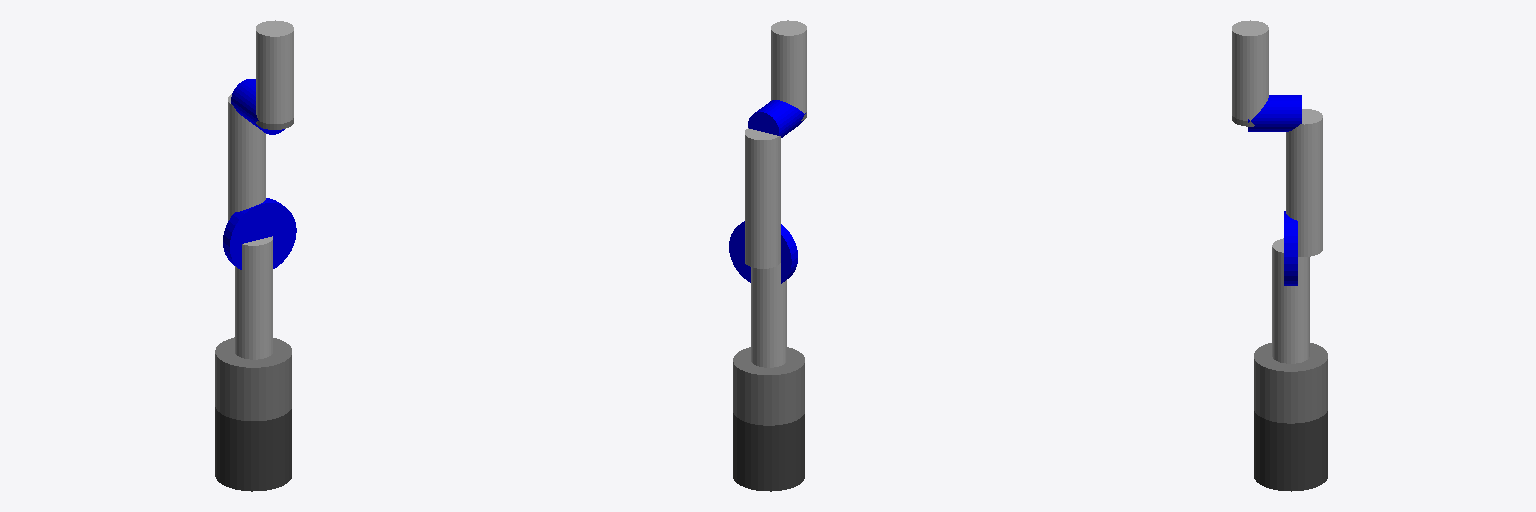
URDF robot description (prototype3):
<robot name="prototype3">
    <material name="Blue">
        <texture />
        <color rgba="0 0 1 1" />
    </material>
    <material name="DarkGrey">
        <texture />
        <color rgba="0.3 0.3 0.3 1" />
    </material>
    <material name="Grey">
        <texture />
        <color rgba="0.5 0.5 0.5 1" />
    </material>
    <material name="LightGrey">
        <texture />
        <color rgba="0.7 0.7 0.7 1" />
    </material>
    <link name="base">
        <visual>
            <origin xyz="0 0 0.1" rpy="0 -0 0" />
            <geometry>
                <cylinder radius="0.1" length="0.2" />
            </geometry>
            <material name="DarkGrey">
                <texture />
                <color rgba="0.3 0.3 0.3 1" />
            </material>
        </visual>
    </link>
    <link name="flange">
        <inertial>
            <mass value="2" />
            <origin xyz="0 0 0" rpy="0 -0 0" />
            <inertia ixx="0" ixy="0" ixz="0" iyy="0" iyz="0" izz="0" />
        </inertial>
        <visual>
            <origin xyz="0 0 -0.0082" rpy="0 -0 0" />
            <geometry>
                <cylinder radius="0.05" length="0.0164" />
            </geometry>
            <material name="Grey">
                <texture />
                <color rgba="0.5 0.5 0.5 1" />
            </material>
        </visual>
    </link>
    <link name="link1">
        <inertial>
            <mass value="3.48196e-19" />
            <origin xyz="0 0 0" rpy="0 -0 0" />
            <inertia ixx="9.80625e-20" ixy="-3.2626e-20" ixz="3.97941e-19" iyy="1.87573e-20" iyz="1.5402e-21" izz="0.0621393" />
        </inertial>
        <visual>
            <origin xyz="0 0 0.27645" rpy="0 -0 0" />
            <geometry>
                <cylinder radius="0.1" length="0.1529" />
            </geometry>
            <material name="Grey">
                <texture />
                <color rgba="0.5 0.5 0.5 1" />
            </material>
        </visual>
    </link>
    <link name="link2">
        <inertial>
            <mass value="1.02864e-19" />
            <origin xyz="0 0 0" rpy="0 -0 0" />
            <inertia ixx="-0.162878" ixy="0.858004" ixz="0.715327" iyy="0.225017" iyz="1.98011" izz="-3.11143" />
        </inertial>
        <visual>
            <origin xyz="0 0.1625 0" rpy="1.5708 -0 0" />
            <geometry>
                <cylinder radius="0.05" length="0.325" />
            </geometry>
            <material name="LightGrey">
                <texture />
                <color rgba="0.7 0.7 0.7 1" />
            </material>
        </visual>
    </link>
    <link name="link3">
        <inertial>
            <mass value="-0.759816" />
            <origin xyz="3.08257 -0.204516 -3.14476e-15" rpy="0 -0 0" />
            <inertia ixx="1.09967" ixy="0.342904" ixz="-1.34792" iyy="-1.03753" iyz="-1.83535" izz="-0.658424" />
        </inertial>
        <visual>
            <origin xyz="0 -0.0178 0" rpy="0 -0 0" />
            <geometry>
                <cylinder radius="0.1" length="0.0356" />
            </geometry>
            <material name="Blue">
                <texture />
                <color rgba="0 0 1 1" />
            </material>
        </visual>
    </link>
    <link name="link4">
        <inertial>
            <mass value="-0.736828" />
            <origin xyz="-0.064029 2.7185 3.17874" rpy="0 -0 0" />
            <inertia ixx="-0.891107" ixy="0.9536" ixz="-0.0249069" iyy="-0.804857" iyz="0.741143" izz="0.371035" />
        </inertial>
        <visual>
            <origin xyz="0 0 0.18525" rpy="0 -0 0" />
            <geometry>
                <cylinder radius="0.05" length="0.3905" />
            </geometry>
            <material name="LightGrey">
                <texture />
                <color rgba="0.7 0.7 0.7 1" />
            </material>
        </visual>
    </link>
    <link name="link5">
        <inertial>
            <mass value="-13.8235" />
            <origin xyz="-0.00109119 -0.00539867 0.144902" rpy="0 -0 0" />
            <inertia ixx="-0.126369" ixy="0.360333" ixz="0.368656" iyy="-0.393699" iyz="-0.233072" izz="-0.409608" />
        </inertial>
        <visual>
            <origin xyz="0 0 0.07725" rpy="0 -0 0" />
            <geometry>
                <cylinder radius="0.05" length="0.1445" />
            </geometry>
            <material name="Blue">
                <texture />
                <color rgba="0 0 1 1" />
            </material>
        </visual>
    </link>
    <link name="link6">
        <inertial>
            <mass value="29.632" />
            <origin xyz="0.00101807 4.94823e-05 0.00251876" rpy="0 -0 0" />
            <inertia ixx="-0.198634" ixy="-0.342835" ixz="0.138196" iyy="-0.337343" iyz="0.379912" izz="0.273749" />
        </inertial>
        <visual>
            <origin xyz="0 0 0.125" rpy="0 -0 0" />
            <geometry>
                <cylinder radius="0.05" length="0.25" />
            </geometry>
            <material name="LightGrey">
                <texture />
                <color rgba="0.7 0.7 0.7 1" />
            </material>
        </visual>
    </link>
    <joint name="flange_joint" type="fixed">
        <origin xyz="0 0 0" rpy="0 -0 0" />
        <axis xyz="0 0 0" />
        <parent link="link6" />
        <child link="flange" />
    </joint>
    <joint name="joint_1" type="revolute">
        <origin xyz="0 0 0" rpy="0 -0 0" />
        <axis xyz="0 0 1" />
        <parent link="base" />
        <child link="link1" />
        <limit effort="90" velocity="1" lower="-2.9" upper="2.9" />
    </joint>
    <joint name="joint_2" type="revolute">
        <origin xyz="0 0 0.3529" rpy="1.5708 -0 0" />
        <axis xyz="0 0 1" />
        <parent link="link1" />
        <child link="link2" />
        <limit effort="90" velocity="1" lower="-2.1" upper="2.1" />
    </joint>
    <joint name="joint_3" type="revolute">
        <origin xyz="0 0.325 0" rpy="0 -0 1.5708" />
        <axis xyz="0 0 1" />
        <parent link="link2" />
        <child link="link3" />
        <limit effort="51" velocity="0.5" lower="-2.9" upper="2.9" />
    </joint>
    <joint name="joint_4" type="revolute">
        <origin xyz="0 0 -0.0356" rpy="1.5708 -0 1.5708" />
        <axis xyz="0 0 1" />
        <parent link="link3" />
        <child link="link4" />
        <limit effort="51" velocity="0.5" lower="-2.9" upper="2.9" />
    </joint>
    <joint name="joint_5" type="revolute">
        <origin xyz="0 0 0.3905" rpy="1.5708 -4.23516e-22 -3.14159" />
        <axis xyz="0 0 1" />
        <parent link="link4" />
        <child link="link5" />
        <limit effort="51" velocity="0.5" lower="-2.5" upper="2.5" />
    </joint>
    <joint name="joint_6" type="revolute">
        <origin xyz="0 0 0.1445" rpy="-1.5708 0 0" />
        <axis xyz="0 0 1" />
        <parent link="link5" />
        <child link="link6" />
        <limit effort="51" velocity="0.5" lower="-2.9" upper="2.9" />
    </joint>
</robot>

--- Facts derived from the render (not from the file) ---
The picture shows the robot from 3 angles, left to right: view 1: azimuth 30°, elevation 25°; view 2: azimuth 150°, elevation 25°; view 3: azimuth 270°, elevation 25°; orthographic projection.
Model prototype3 with 8 links and 7 joints (6 revolute, 1 fixed), rooted at base, posed every joint at zero.
Visible links, largest first — view 1: base, link1, link2, link6, link4, link3, link5; view 2: link4, base, link1, link2, link6, link3, link5; view 3: base, link1, link4, link2, link6, link5, link3.
Link boxes in pixels (left/top/right/bottom): base: left=215, top=407, right=291, bottom=491; link1: left=215, top=337, right=291, bottom=420; link2: left=235, top=236, right=272, bottom=359; link6: left=256, top=20, right=293, bottom=123; link4: left=228, top=94, right=265, bottom=220; link3: left=223, top=198, right=296, bottom=269; link5: left=231, top=79, right=284, bottom=134; link4: left=745, top=128, right=780, bottom=268; base: left=733, top=413, right=804, bottom=491; link1: left=733, top=347, right=804, bottom=425; link2: left=751, top=263, right=786, bottom=367; link6: left=771, top=20, right=806, bottom=113; link3: left=729, top=221, right=797, bottom=283; link5: left=748, top=100, right=805, bottom=137; base: left=1254, top=411, right=1327, bottom=491; link1: left=1254, top=343, right=1327, bottom=423; link4: left=1286, top=109, right=1322, bottom=256; link2: left=1272, top=238, right=1309, bottom=363; link6: left=1232, top=20, right=1268, bottom=120; link5: left=1248, top=95, right=1301, bottom=131; link3: left=1284, top=211, right=1297, bottom=285.
Size in the robot's own frame: 0.2178 by 0.2589 by 1.32 metres.
Geometry: primitives only (box / cylinder / sphere), no mesh files.